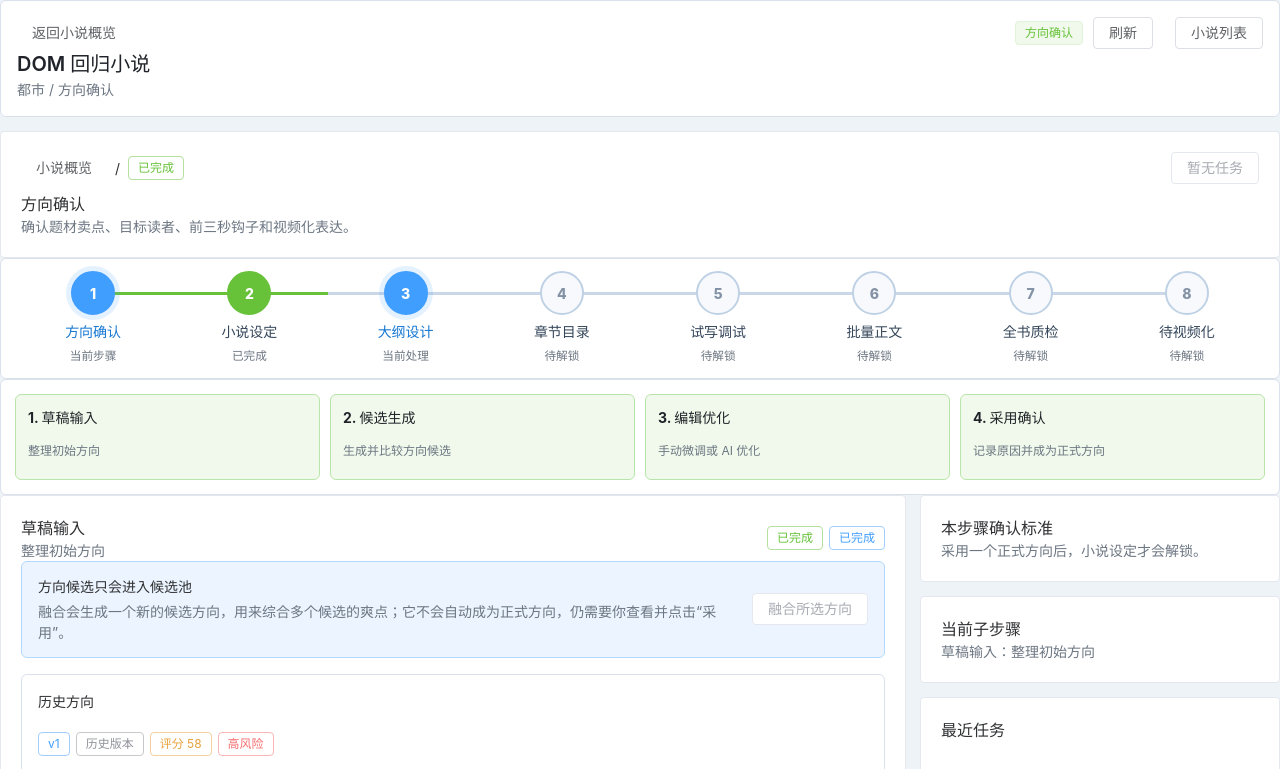
Test case: NovelDetailWorkbench DOM behavior › separates historical, stale, discarded, and hard-stale candidate semantics
Step 1. Click the button with class "major-step" showing "3 大纲设计 当前处理" → {"x": 406, "y": 318}, box [328,271,484,366]
(page scrolled)
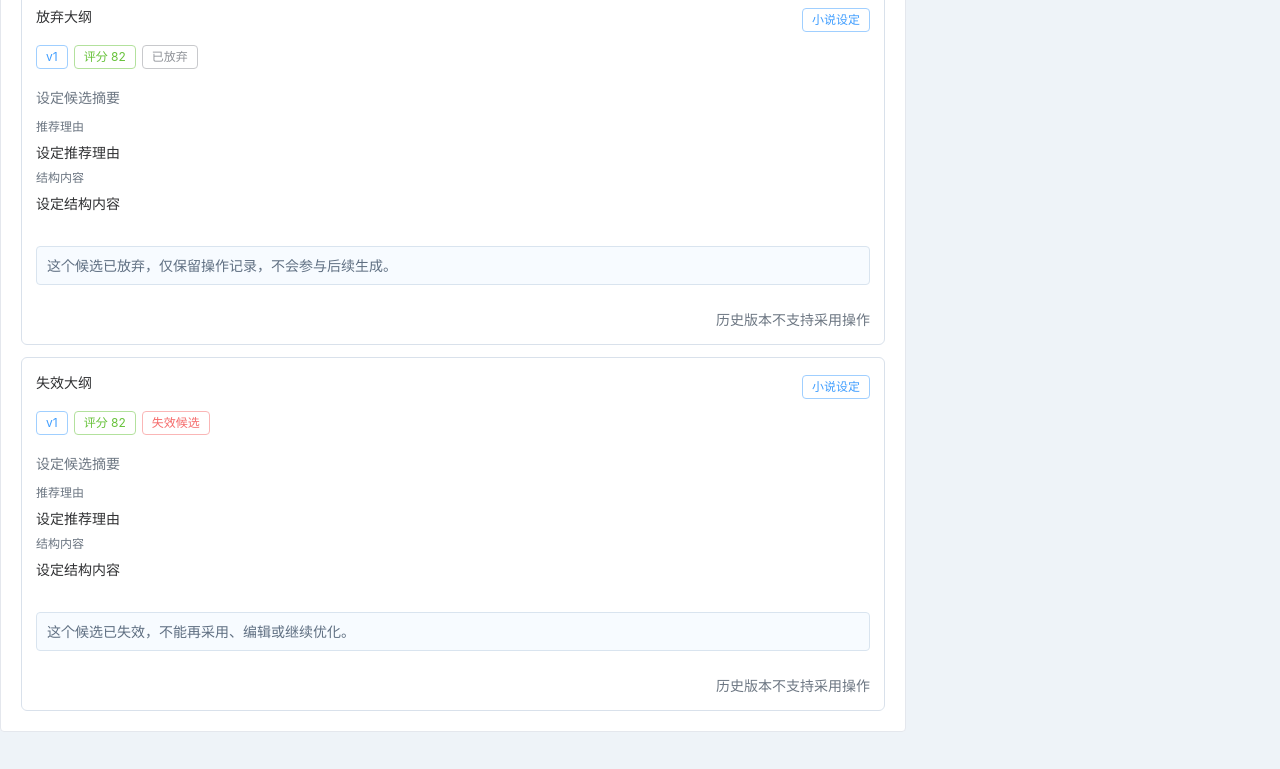
Expected: the element with id "structure-candidate-outline-discarded" shows "这个候选已放弃", [47,257,397,274]
Expected: the element with id "structure-candidate-outline-hard-stale" shows "这个候选已失效", [47,623,355,640]
Expected: the element with id "structure-candidate-outline-hard-stale" shows "失效候选", [152,415,200,430]
